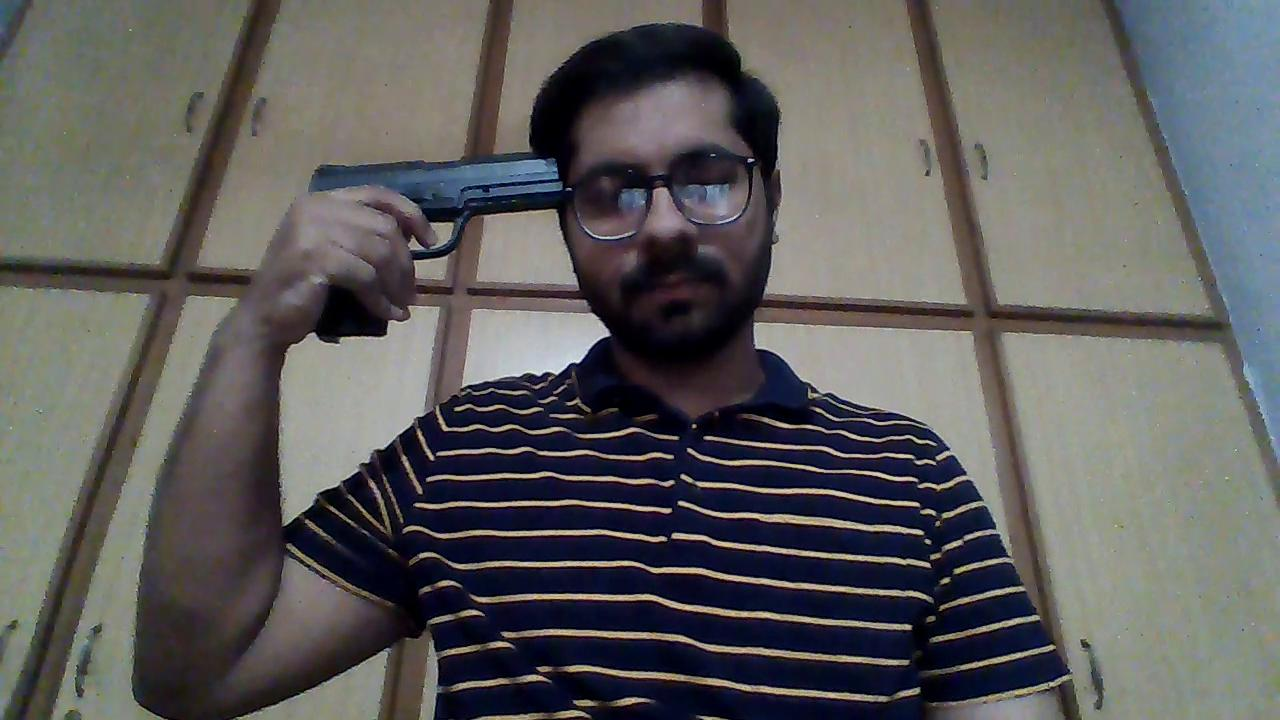criminal: (131, 20, 1078, 720)
weapon: (308, 145, 574, 344)
